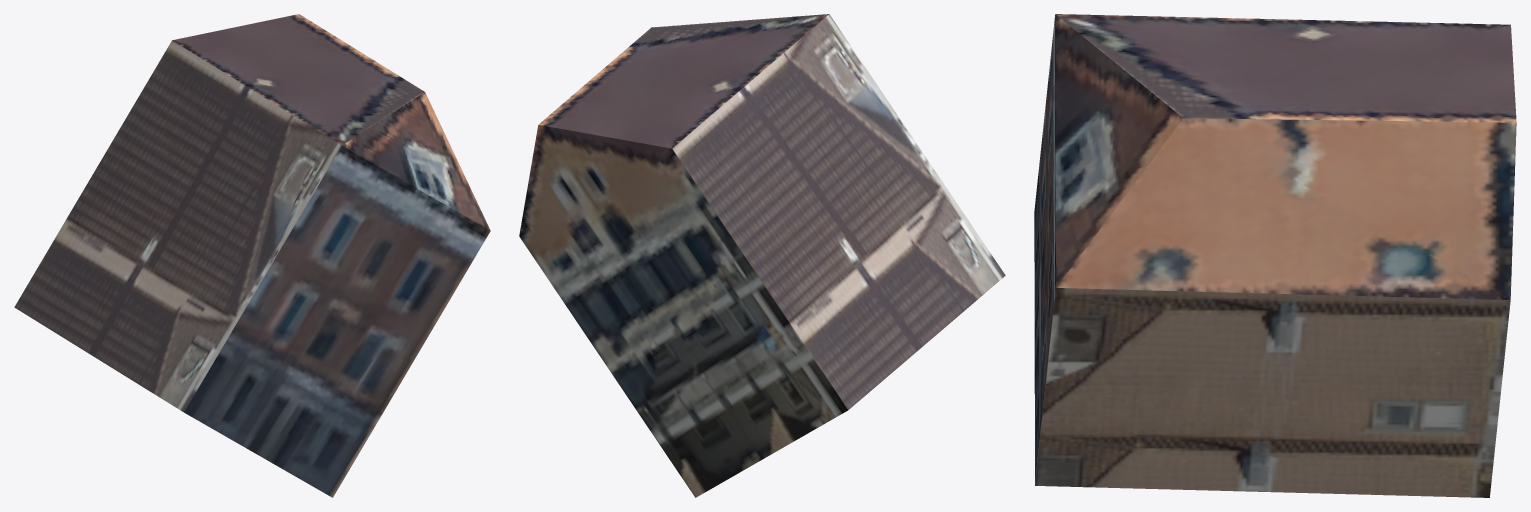
The picture shows the model from 3 angles, left to right: view 1: azimuth 30°, elevation 25°; view 2: azimuth 150°, elevation 25°; view 3: azimuth 270°, elevation 25°; orthographic projection. The views are drawn at different scales.
Parts seen in each view (by area): view 1: BAG_0599100000760397 (×2); view 2: BAG_0599100000760397 (×2); view 3: BAG_0599100000760397 (×2).
Boxes of the visible parts, bbox=[...] form: BAG_0599100000760397 (×2): bbox=[14, 14, 490, 497]; BAG_0599100000760397 (×2): bbox=[519, 14, 1005, 497]; BAG_0599100000760397 (×2): bbox=[1034, 14, 1516, 497].
Bounding box in the file's own units: 13.46 × 14.18 × 12.4.
3 materials, 3 textured.
